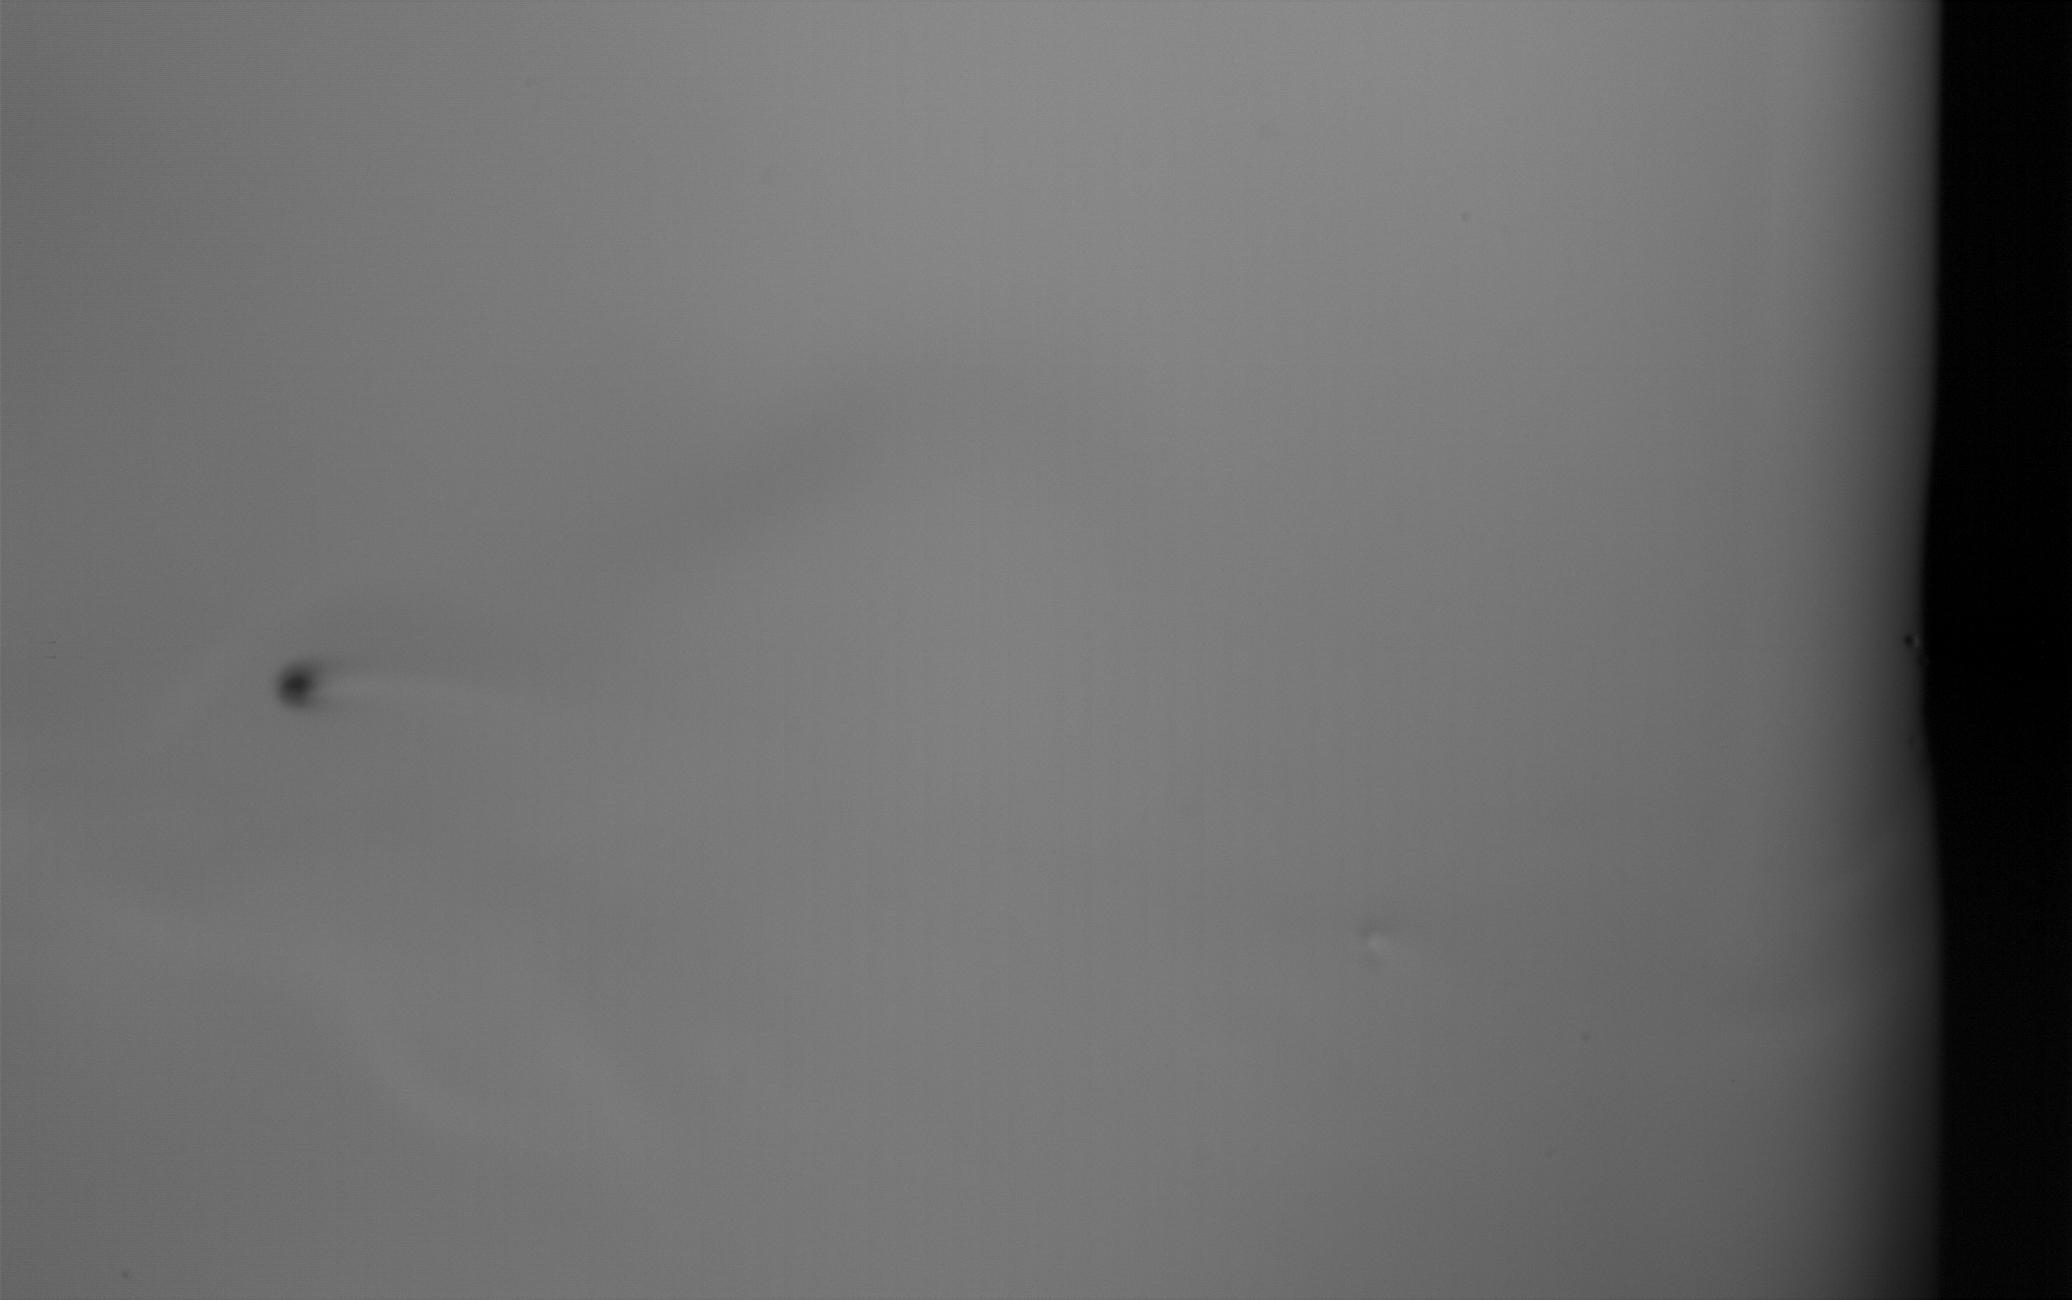Blurry: (275, 659, 322, 711)
